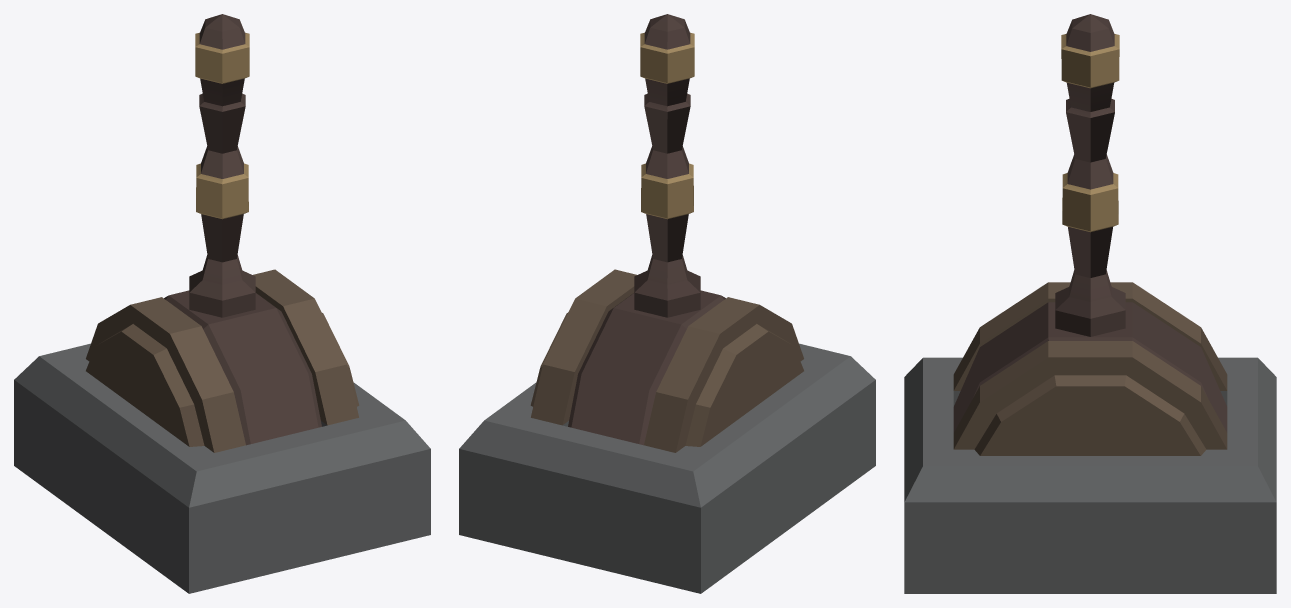
File: samurai_SM_Gen_Prop_Lever_02.gltf
The picture shows the model from 3 angles, left to right: view 1: azimuth 30°, elevation 25°; view 2: azimuth 150°, elevation 25°; view 3: azimuth 270°, elevation 25°; orthographic projection. The views are drawn at different scales.
Parts seen in each view (by area): view 1: SM_Gen_Prop_Lever_02; view 2: SM_Gen_Prop_Lever_02; view 3: SM_Gen_Prop_Lever_02.
Part boxes in pixels (x1=…): SM_Gen_Prop_Lever_02: x1=14, y1=14, x2=430, y2=593; SM_Gen_Prop_Lever_02: x1=459, y1=14, x2=875, y2=593; SM_Gen_Prop_Lever_02: x1=904, y1=14, x2=1276, y2=593.
Size of the model in its own units: 0.2128 by 0.4092 by 0.2667.
1 material, 1 textured.
